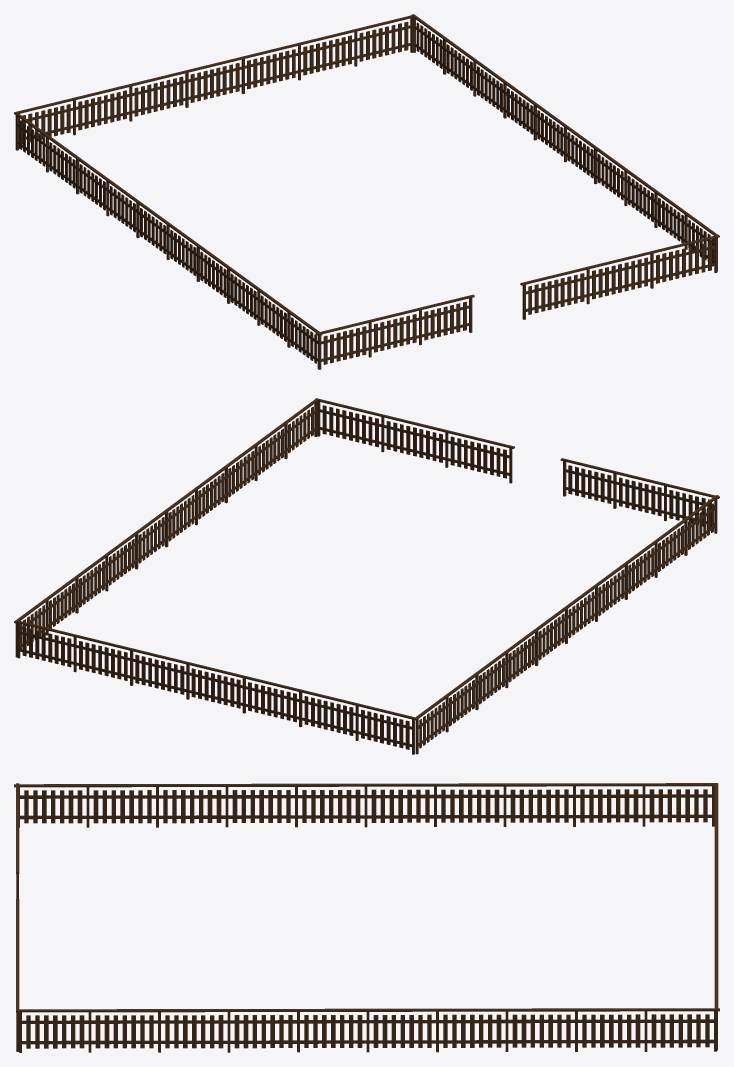
The model's file is Fence.obj.
The picture shows the model from 3 angles, top to bottom: view 1: azimuth 30°, elevation 25°; view 2: azimuth 150°, elevation 25°; view 3: azimuth 270°, elevation 25°; orthographic projection. The views are drawn at different scales.
Parts seen in each view (by area): view 1: Fence.007, Fence.005, Fence.006, Fence.009, Fence.008; view 2: Fence.007, Fence.005, Fence.006, Fence.009, Fence.008; view 3: Fence.006, Fence.005, Fence.007, Fence.009, Fence.008.
Boxes of the visible parts, x1,y1,x2,y2 form: Fence.007: (14,14,415,148); Fence.005: (14,112,322,369); Fence.006: (411,14,719,271); Fence.009: (520,235,719,319); Fence.008: (315,294,474,369); Fence.007: (15,620,416,754); Fence.005: (414,495,718,754); Fence.006: (14,398,318,657); Fence.009: (315,398,514,483); Fence.008: (560,458,719,527); Fence.006: (16,1008,719,1052); Fence.005: (14,783,717,827); Fence.007: (714,783,718,1050); Fence.009: (16,899,19,1051); Fence.008: (16,783,19,898).
Bounding box in the file's own units: 12.03 × 1.04 × 15.74.
